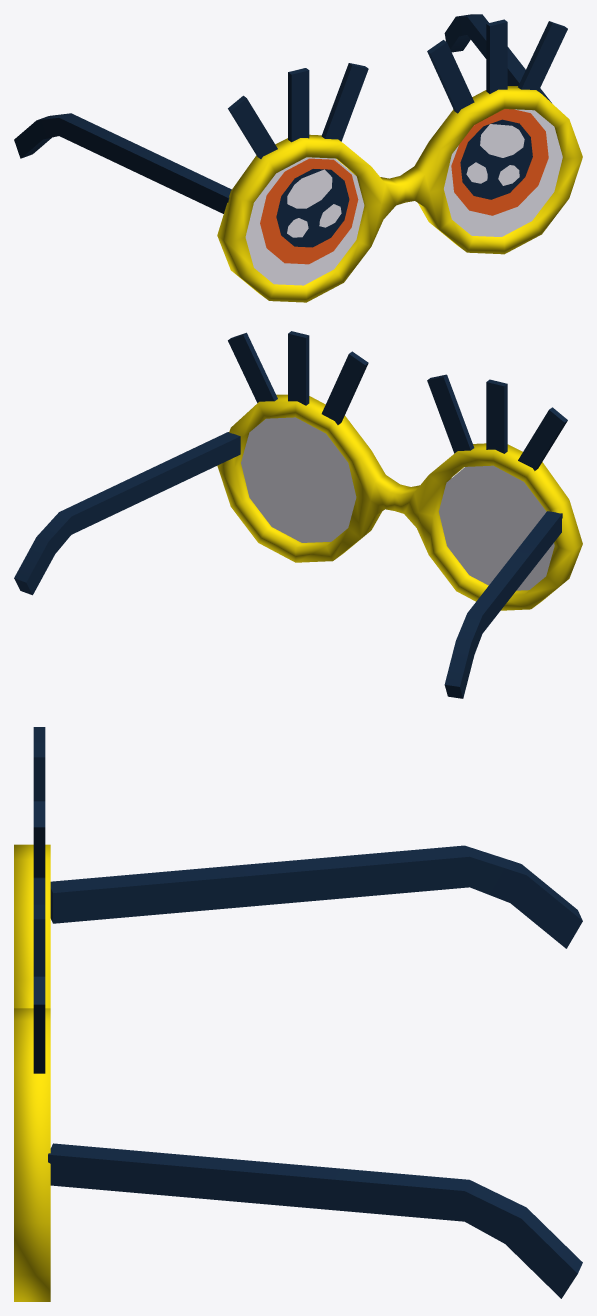
Rendered from Eyelash_glasses.fbx.
The picture shows the model from 3 angles, top to bottom: view 1: azimuth 30°, elevation 25°; view 2: azimuth 150°, elevation 25°; view 3: azimuth 270°, elevation 25°; orthographic projection. The views are drawn at different scales.
Parts seen in each view (by area): view 1: Eyelash_glasses.c, Glasses_stick_50, Glasses_stick_51; view 2: Eyelash_glasses.c, Glasses_stick_51, Glasses_stick_50; view 3: Glasses_stick_51, Glasses_stick_50, Eyelash_glasses.c.
Boxes of the visible parts, x1=… form: Eyelash_glasses.c: x1=217, y1=19, x2=582, y2=302; Glasses_stick_50: x1=14, y1=113, x2=231, y2=213; Glasses_stick_51: x1=444, y1=14, x2=551, y2=102; Eyelash_glasses.c: x1=217, y1=331, x2=582, y2=610; Glasses_stick_51: x1=14, y1=432, x2=240, y2=595; Glasses_stick_50: x1=444, y1=511, x2=562, y2=698; Glasses_stick_51: x1=48, y1=1143, x2=582, y2=1298; Glasses_stick_50: x1=50, y1=845, x2=582, y2=948; Eyelash_glasses.c: x1=14, y1=727, x2=50, y2=1301.
Bounding box in the file's own units: 0.707 × 0.3421 × 0.4672.
